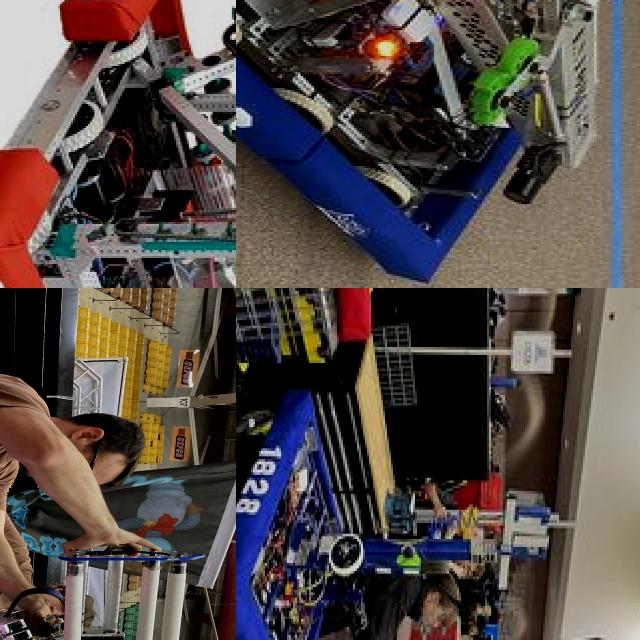FRC-Robots: (236, 0, 640, 288), (236, 378, 577, 640), (0, 0, 236, 288), (0, 501, 206, 640)
